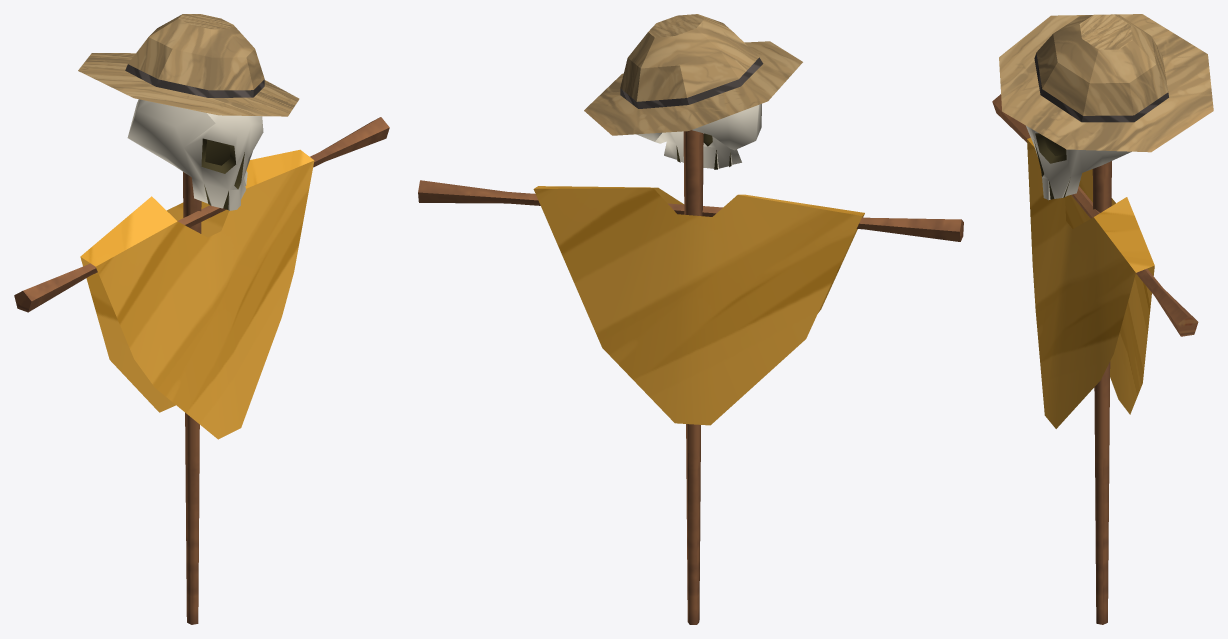
File: epouvantail.FBX
The picture shows the model from 3 angles, left to right: view 1: azimuth 30°, elevation 25°; view 2: azimuth 150°, elevation 25°; view 3: azimuth 270°, elevation 25°; orthographic projection.
Visible parts, largest first — view 1: Cylinder002; view 2: Cylinder002; view 3: Cylinder002.
Part boxes in pixels (x1=…): Cylinder002: x1=14, y1=14, x2=389, y2=624; Cylinder002: x1=418, y1=14, x2=963, y2=624; Cylinder002: x1=992, y1=14, x2=1213, y2=624.
Bounding box in the file's own units: 147 × 185 × 61.58.
Materials: 1 (1 with a texture image).
